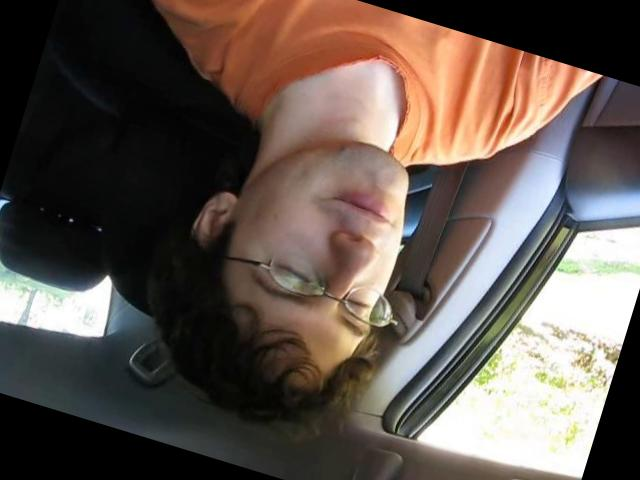eye_closed: (268, 256, 318, 290), (341, 290, 378, 319)
face: (218, 115, 432, 360)
